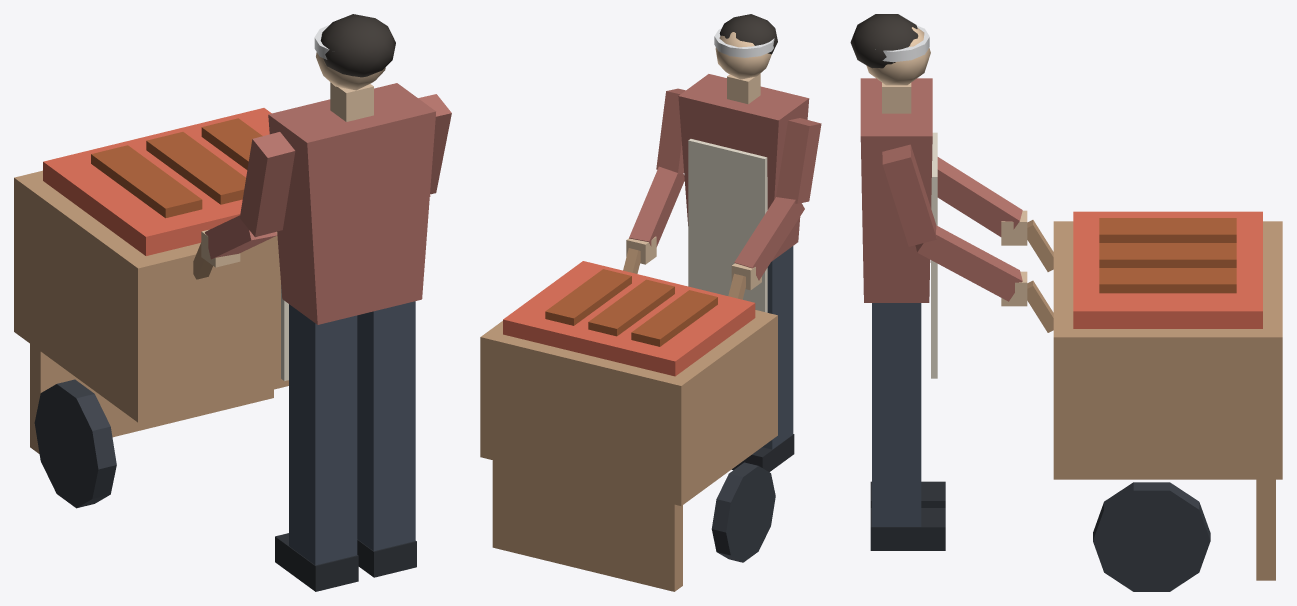
File: vendor.glb
3 renders of one model, left to right at view 1: azimuth 30°, elevation 25°; view 2: azimuth 150°, elevation 25°; view 3: azimuth 270°, elevation 25°, orthographic. The views are drawn at different scales.
Visible parts, largest first — view 1: Body, LegL, LegR; view 2: Body, LegL; view 3: Body, LegR, LegL.
Boxes of the visible parts, <box> form: Body: <box>14,14,451,508</box>; LegL: <box>275,304,358,591</box>; LegR: <box>357,301,416,577</box>; Body: <box>480,14,821,591</box>; LegL: <box>731,246,794,471</box>; Body: <box>850,14,1282,591</box>; LegR: <box>870,303,945,550</box>; LegL: <box>870,481,945,507</box>.
Bounding box in the file's own units: 0.96 × 1.73 × 1.32.
